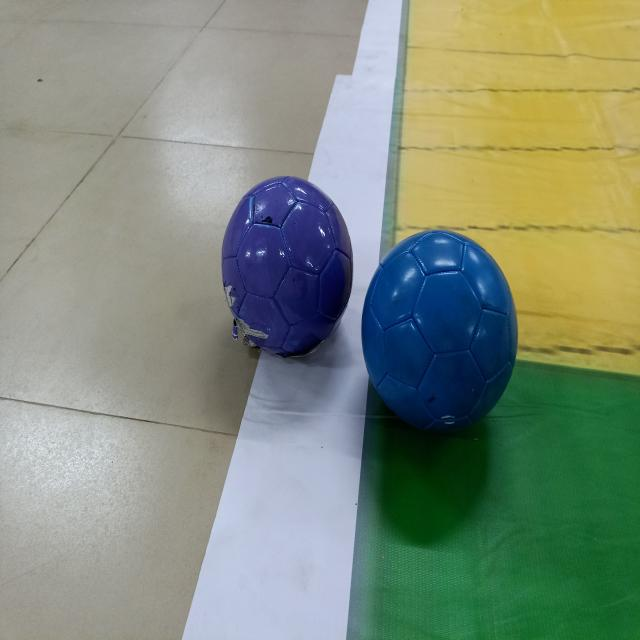blue_ball: (362, 227, 517, 428)
purple_ball: (220, 177, 352, 357)
